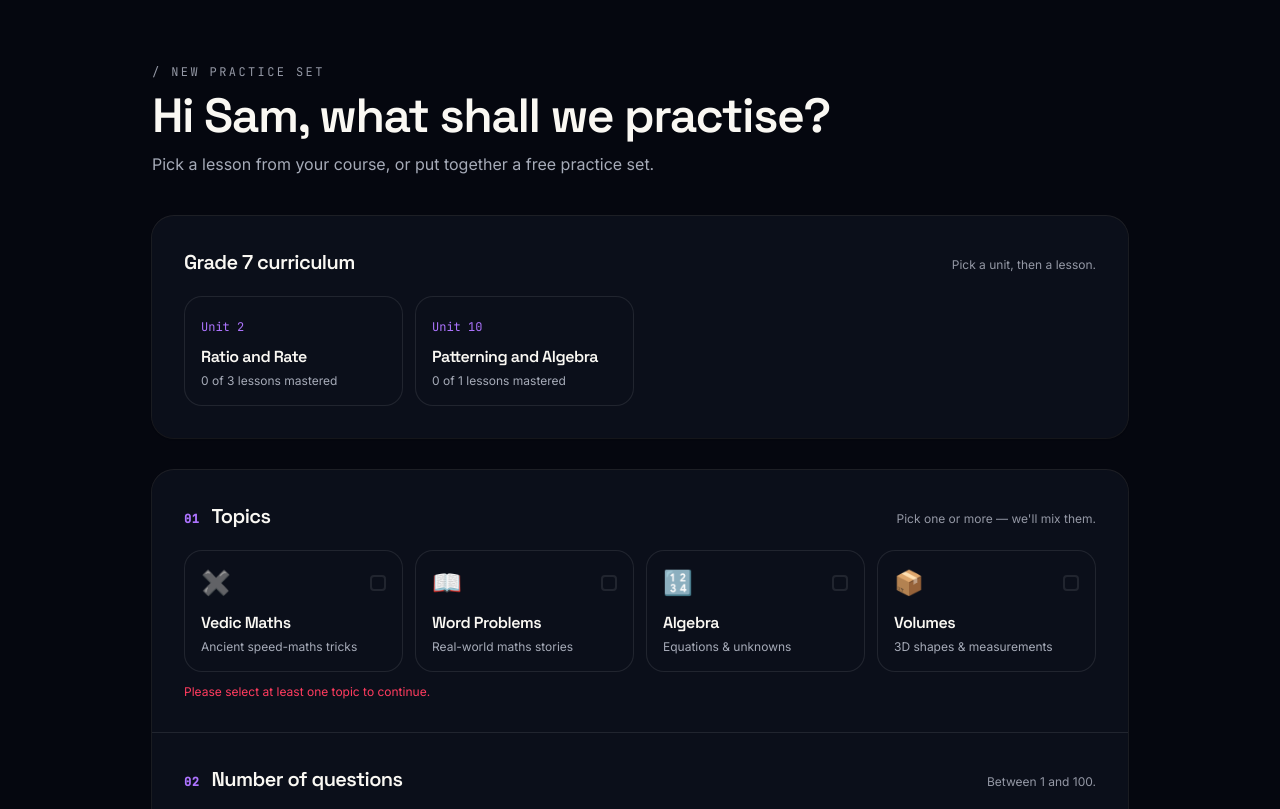
Test: setup stage — lesson picker › opens one unit at a time
This screenshot has width=1280, height=809.
Click the button "Unit 2 Ratio and Rate 0 of 3 lessons mastered".
click(294, 351)  # box [184,296,403,406]
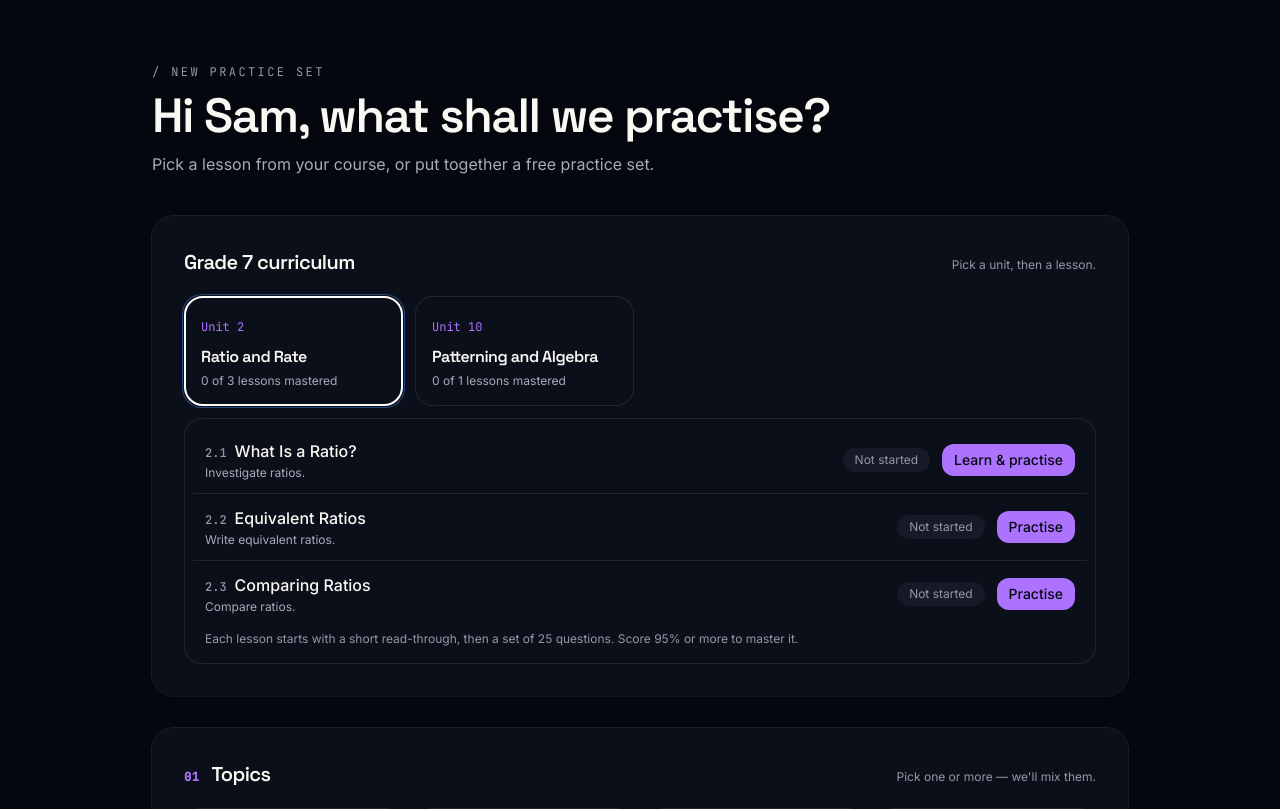
Click the button "Unit 10 Patterning and Algebra 0 of 1 lessons mastered".
click(524, 351)  # box [415,296,634,406]
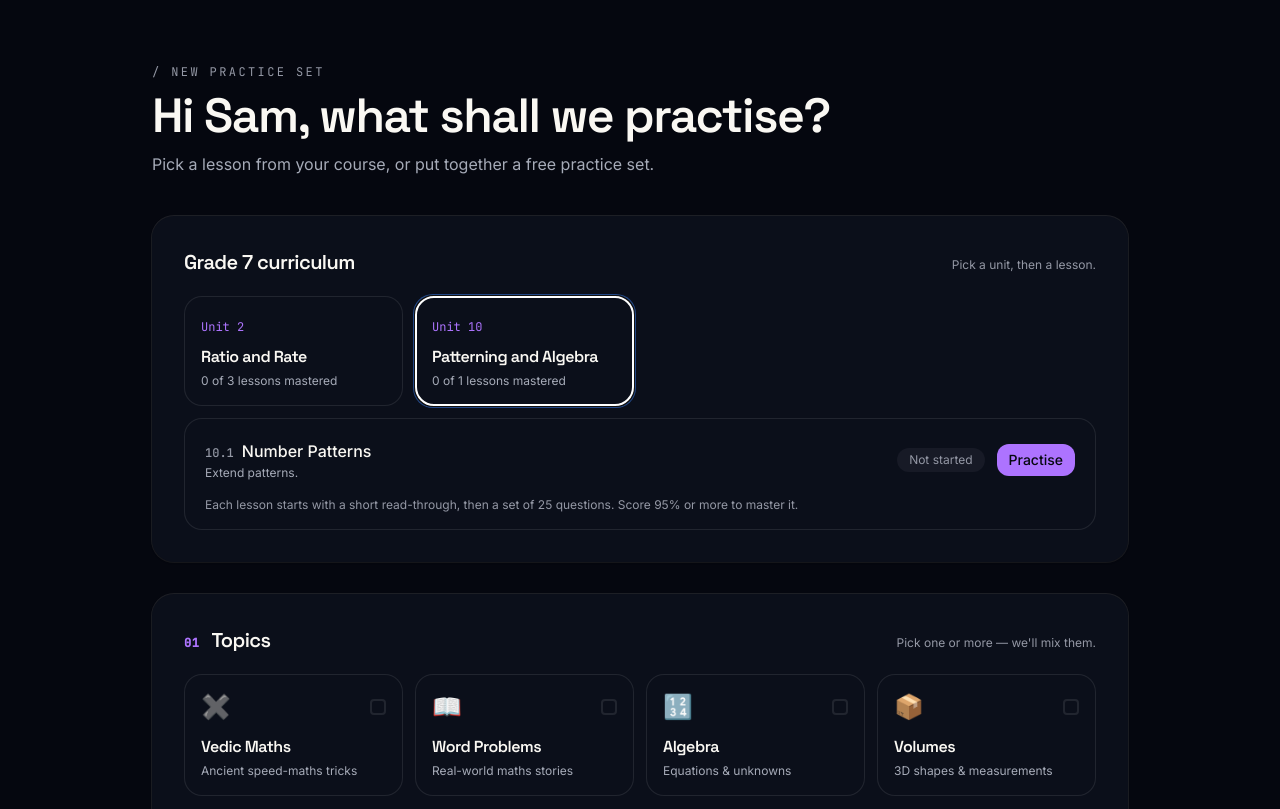
Check: the element named "unit 10 lessons" is shown, box [184,418,1096,530]
